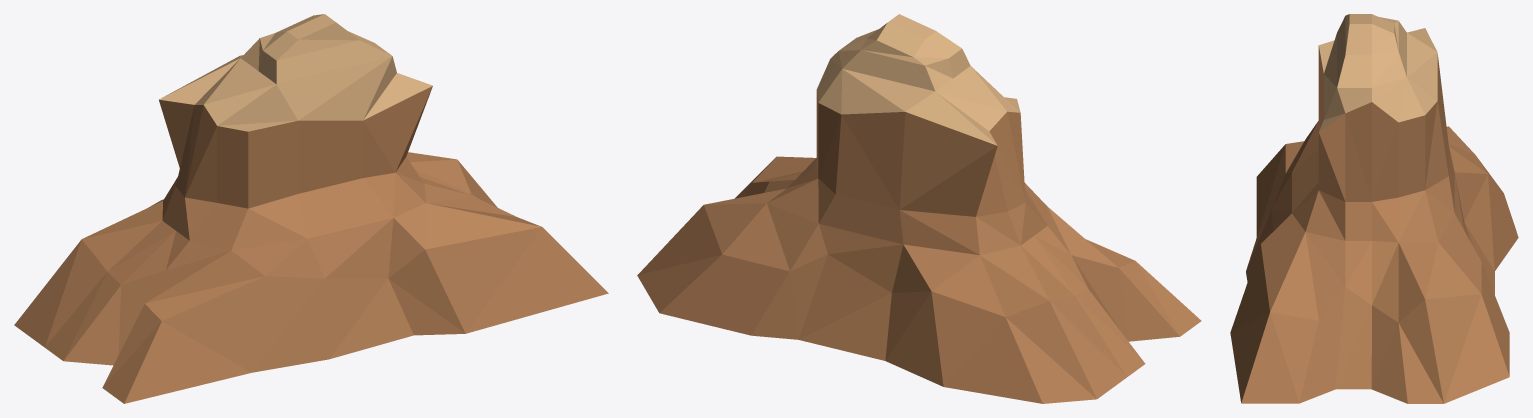
The model's file is Rock_16.fbx.
3 renders of one model, left to right at view 1: azimuth 30°, elevation 25°; view 2: azimuth 150°, elevation 25°; view 3: azimuth 270°, elevation 25°, orthographic. The views are drawn at different scales.
Parts seen in each view (by area): view 1: Rock_16; view 2: Rock_16; view 3: Rock_16.
Boxes of the visible parts, left/top/right/bottom form: Rock_16: left=14, top=14, right=608, bottom=403; Rock_16: left=637, top=14, right=1201, bottom=403; Rock_16: left=1230, top=14, right=1518, bottom=403.
Bounding box in the file's own units: 406 × 217 × 229.
